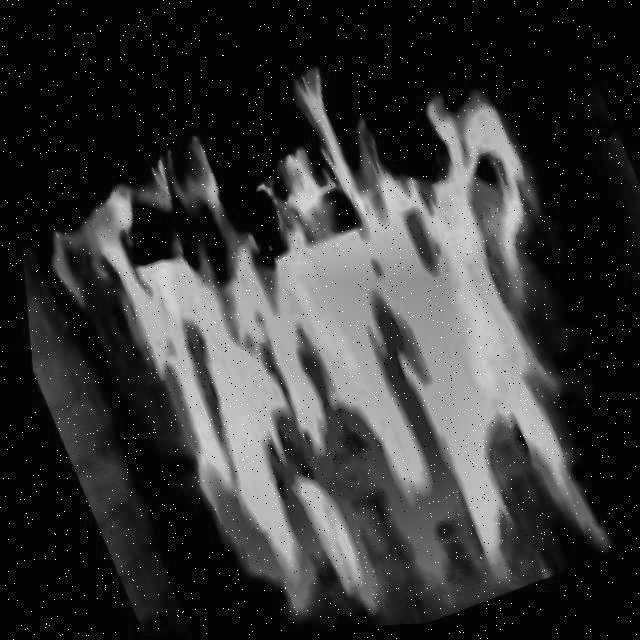Fire: (1, 0, 640, 640)
